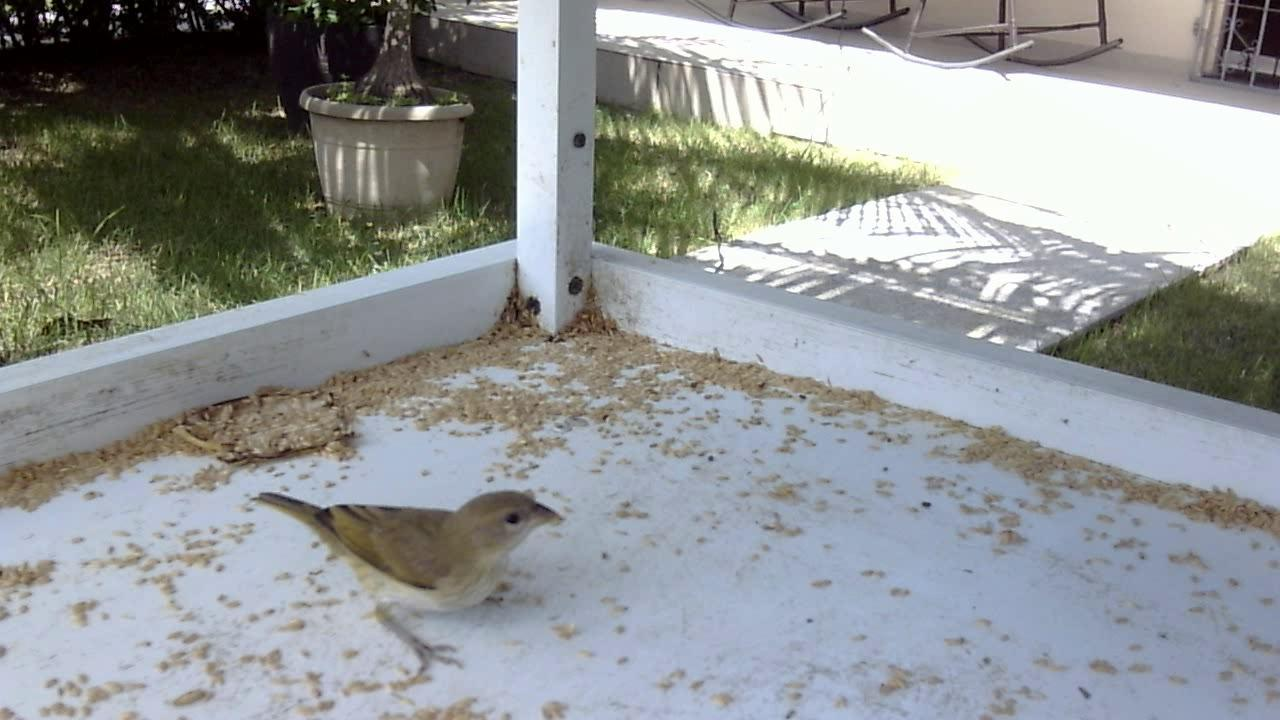canario_do_amazonas: (242, 475, 570, 688)
